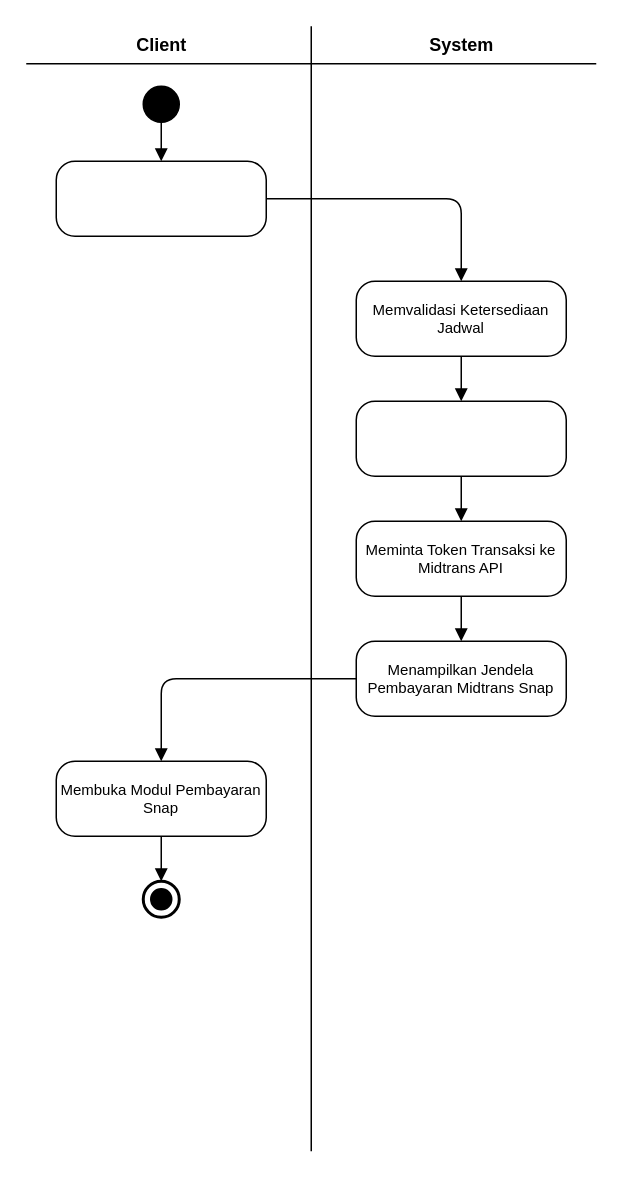
Some shapes in this 624 by 1179 pixel diagram are drawn without their labels. Each missing label, with the centre of its shape:
"Membuat Booking PENDING & Hitung Harga" belongs at point 460,438.
"Pilih Tanggal, Jam Sewa & Klik Booking" belongs at point 160,198.
